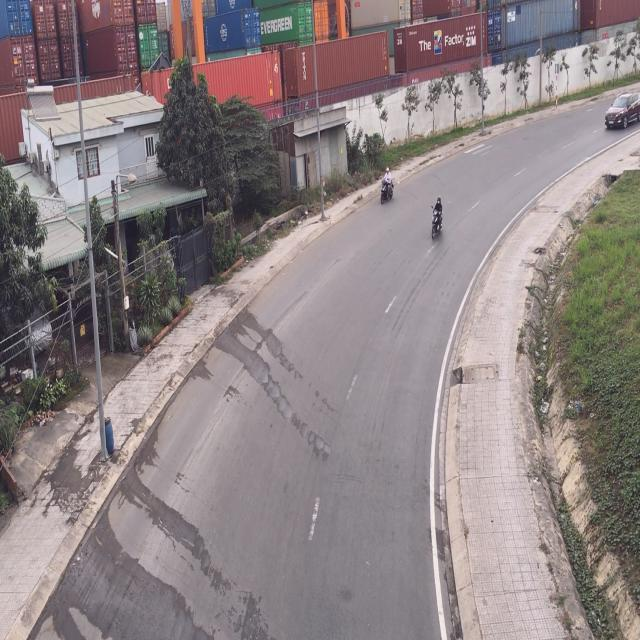car: (605, 92, 640, 131)
motorbike: (428, 195, 445, 245), (380, 164, 395, 204)
